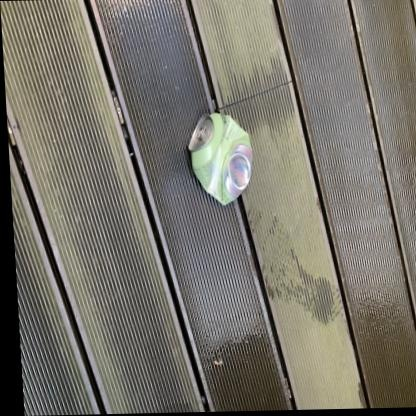trash: (189, 113, 252, 204)
